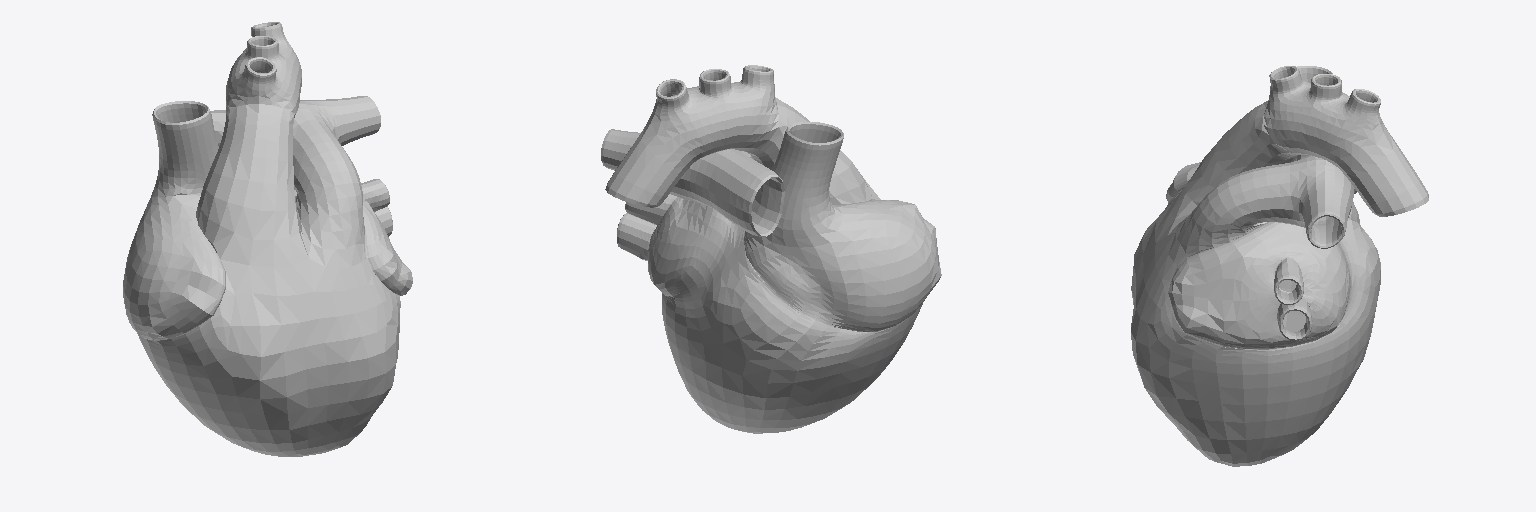
Rendered from Heart.obj.
3 views of the same model, side by side, from view 1: azimuth 30°, elevation 25°; view 2: azimuth 150°, elevation 25°; view 3: azimuth 270°, elevation 25° (orthographic).
Visible parts, largest first — view 1: Object.1; view 2: Object.1; view 3: Object.1.
Boxes of the visible parts, x1,y1,x2,y2 form: Object.1: [123, 22, 412, 456]; Object.1: [601, 65, 941, 433]; Object.1: [1131, 66, 1428, 466].
Size of the model in its own units: 12.42 by 16.28 by 11.5.